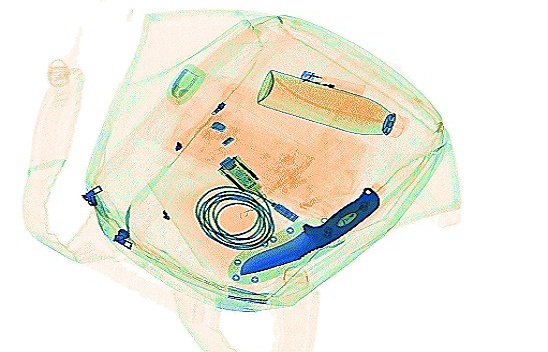knife: (225, 187, 379, 284)
lighter: (299, 67, 366, 97)
pressure: (254, 67, 405, 136)
